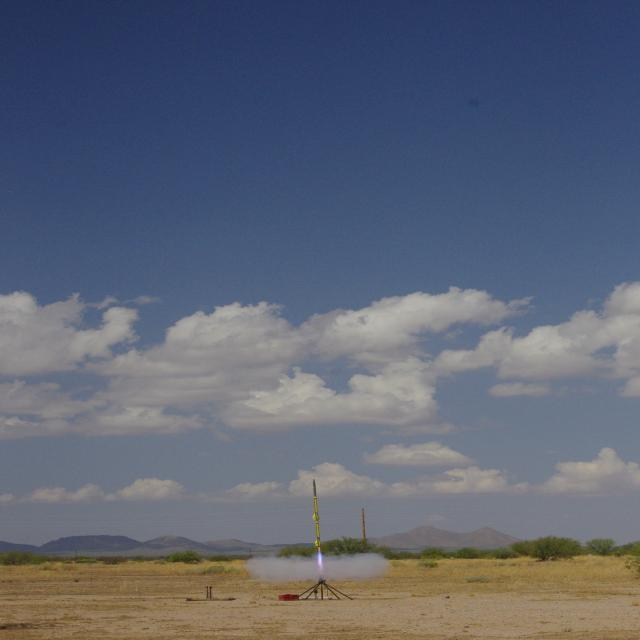Rocket: (312, 478, 322, 548)
